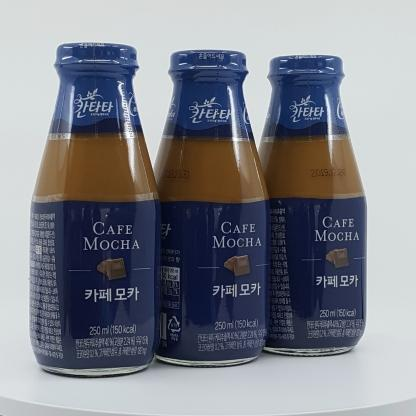------------250ML: (29, 43, 161, 377), (145, 49, 271, 367), (247, 55, 367, 356)
